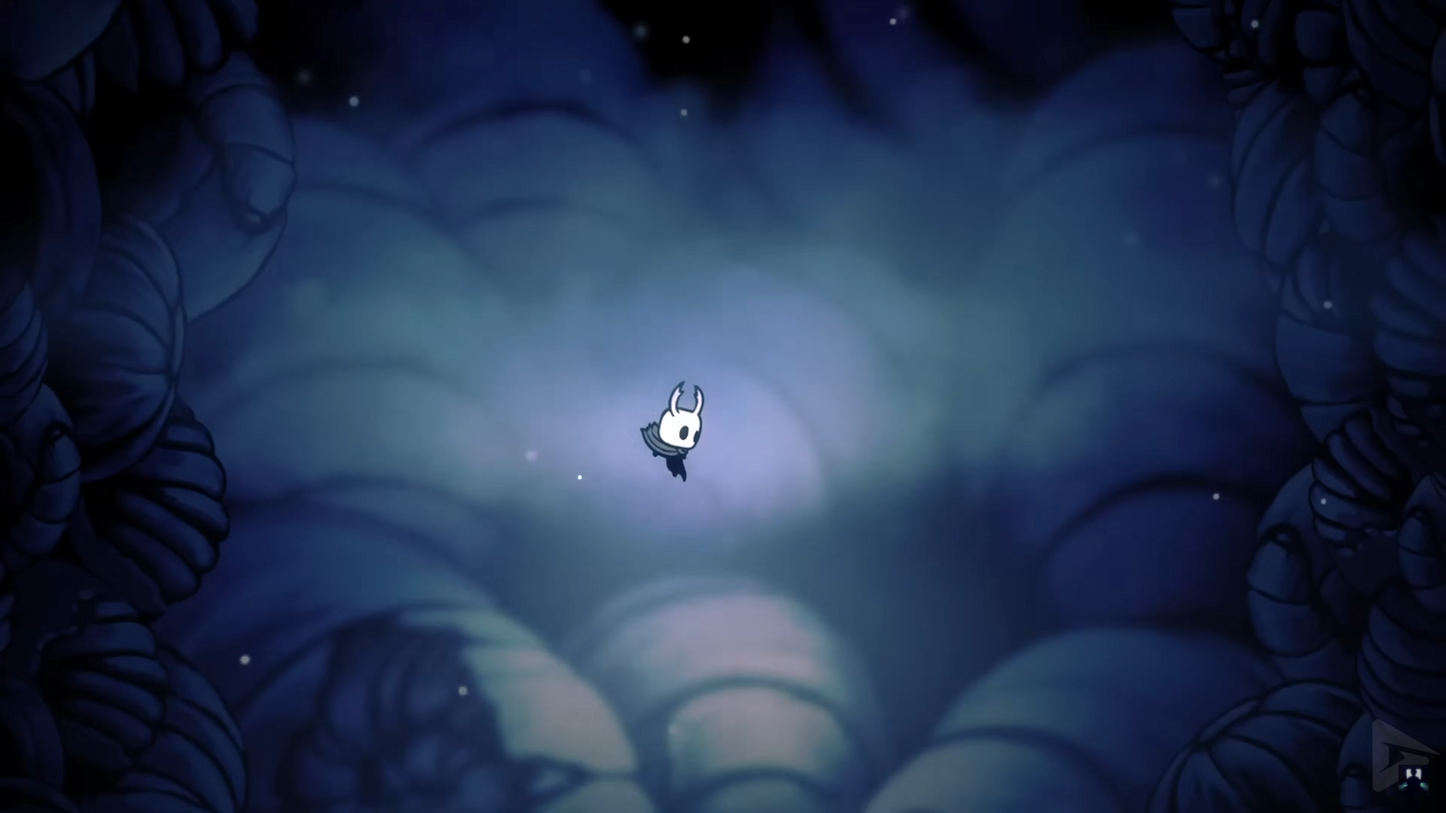HK: (646, 379, 709, 483)
